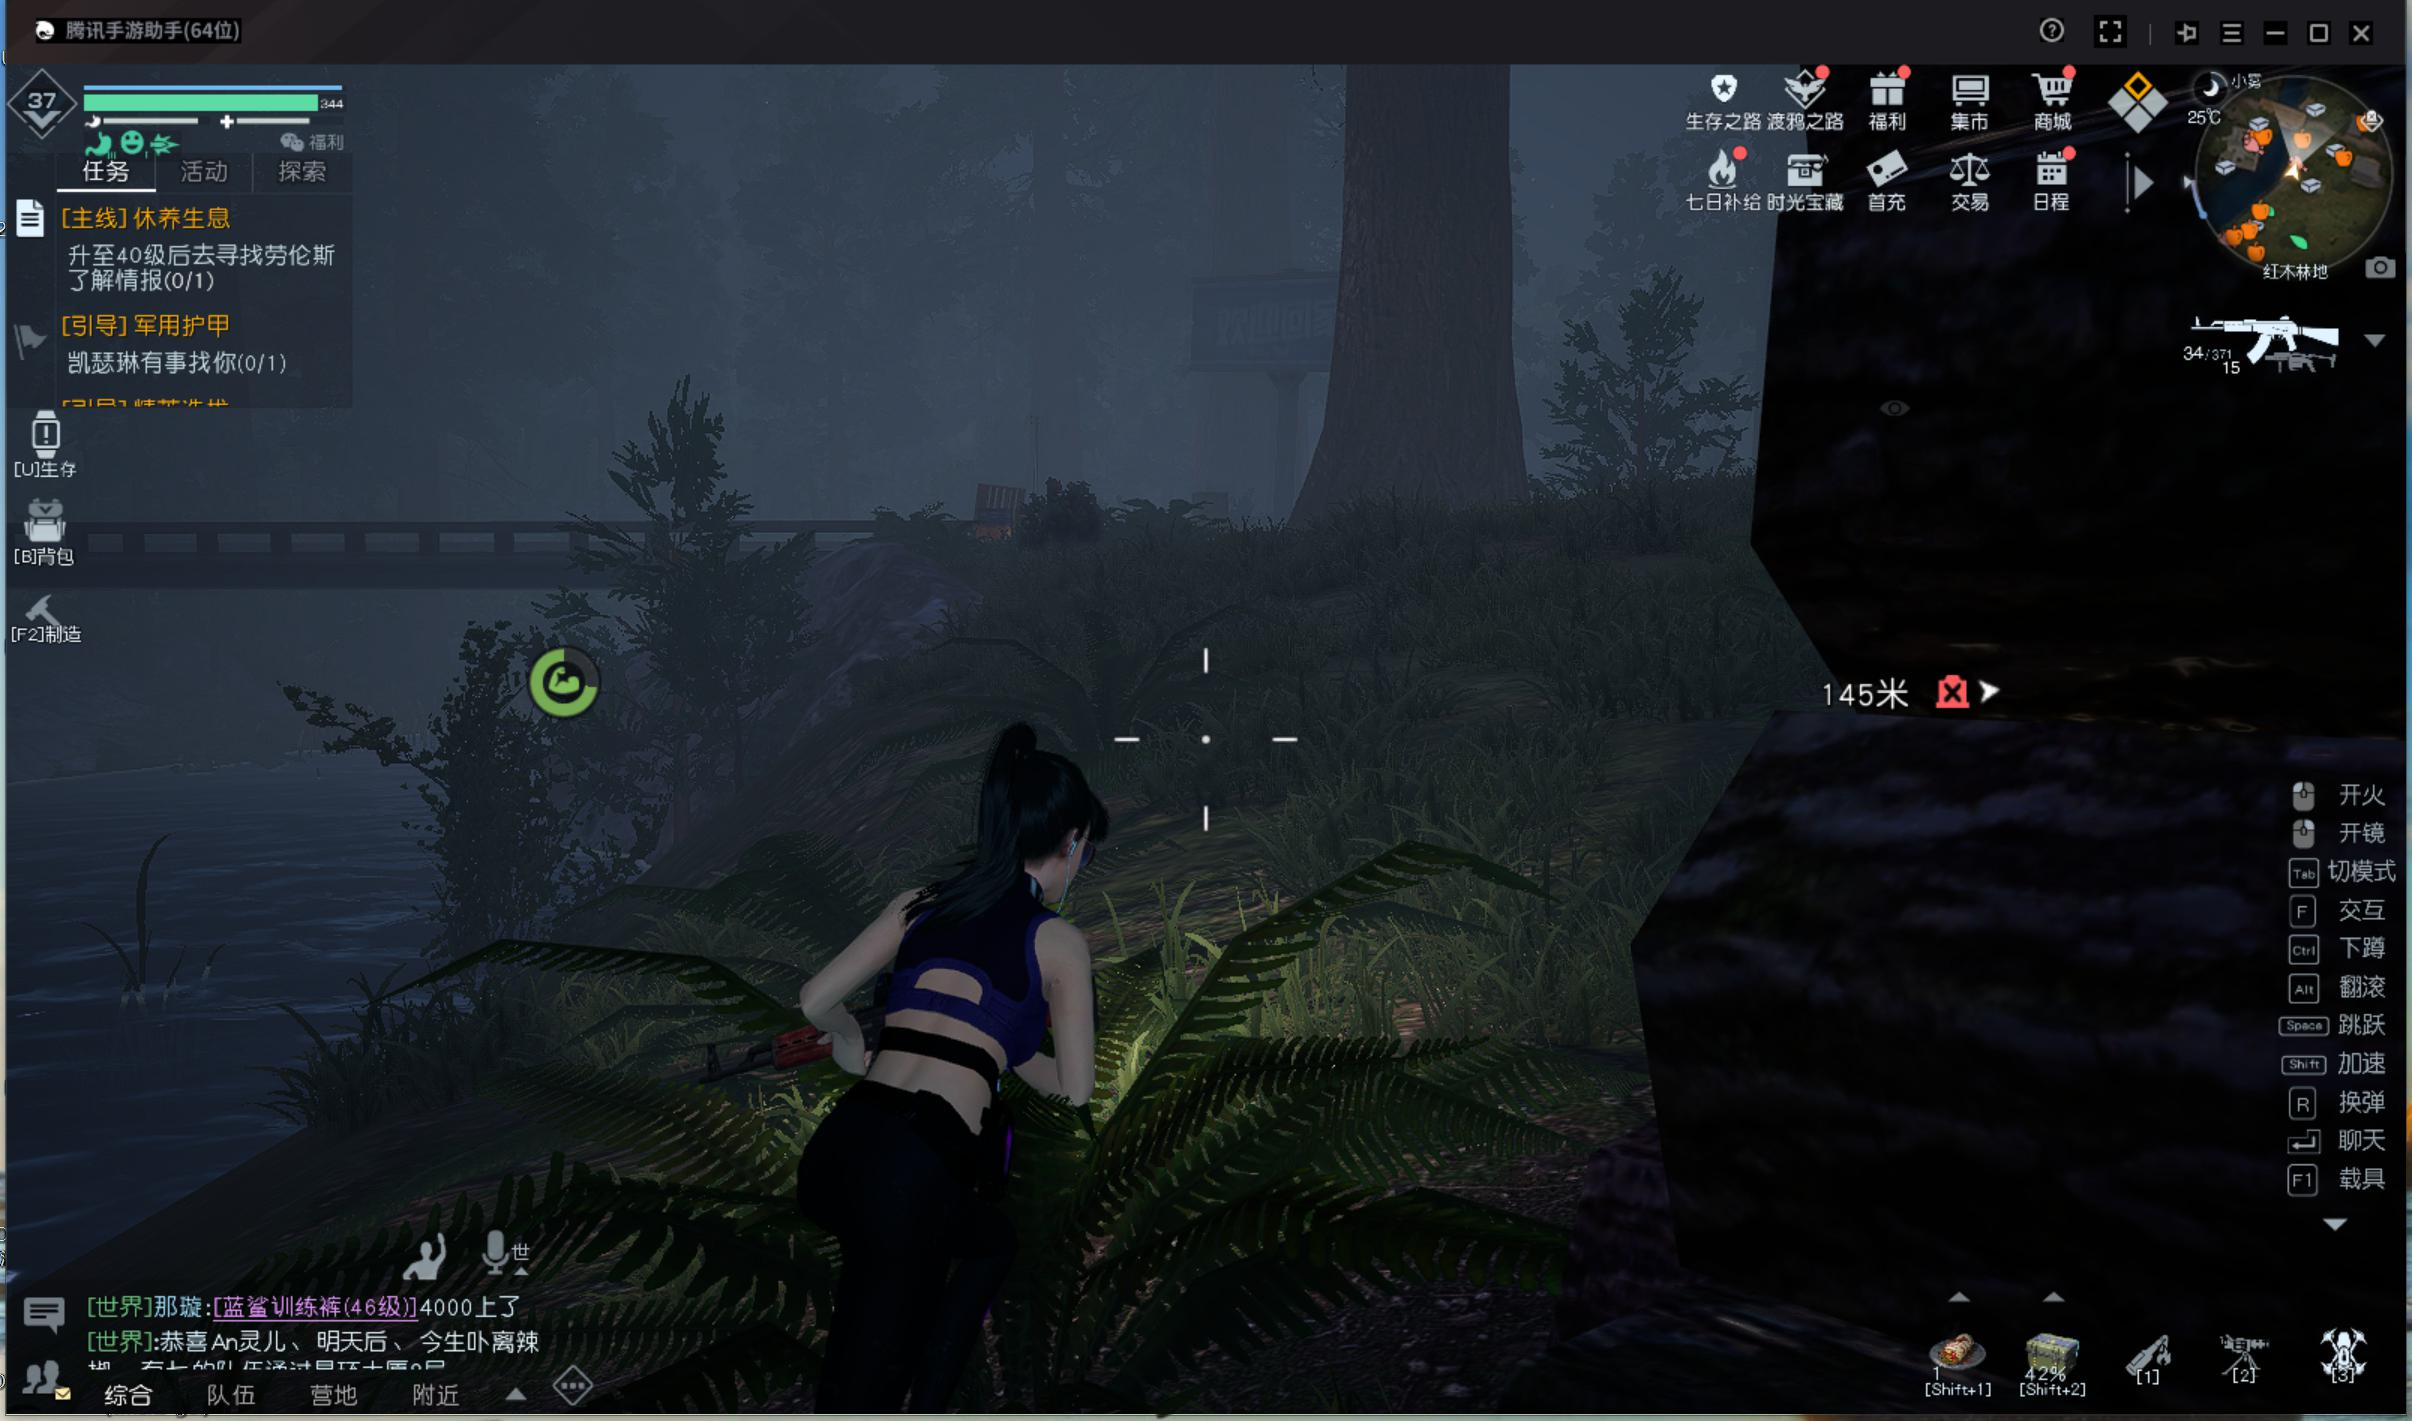tree: (1313, 123, 1553, 540)
